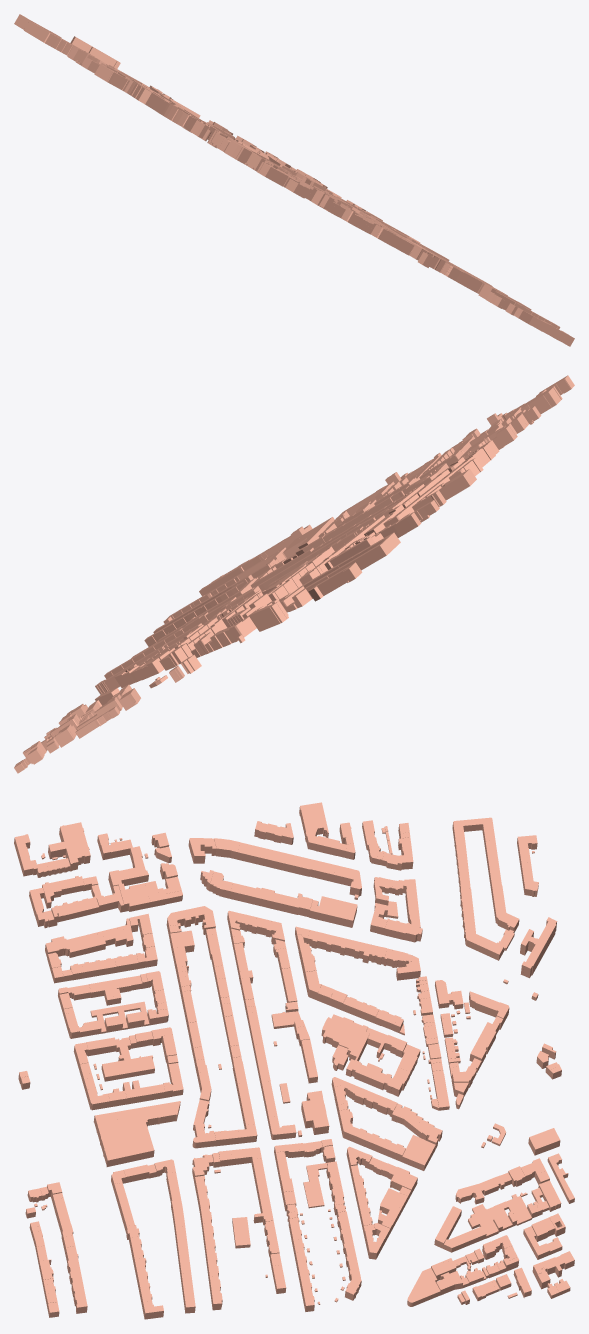
The picture shows the model from 3 angles, top to bottom: view 1: azimuth 30°, elevation 25°; view 2: azimuth 150°, elevation 25°; view 3: azimuth 270°, elevation 25°; orthographic projection. The views are drawn at different scales.
Size of the model in its own units: 535 by 401 by 630.
